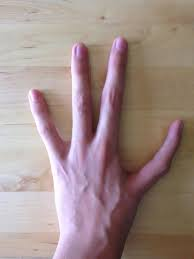hand: (21, 22, 179, 218)
